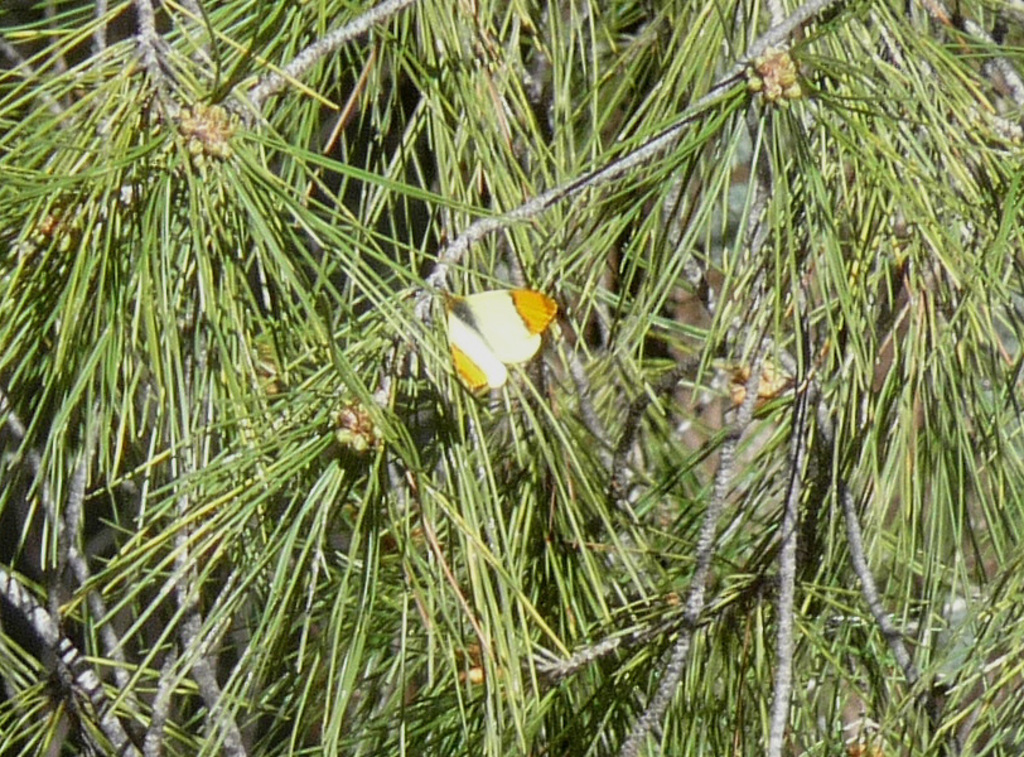Butterfly: (418, 269, 568, 417)
